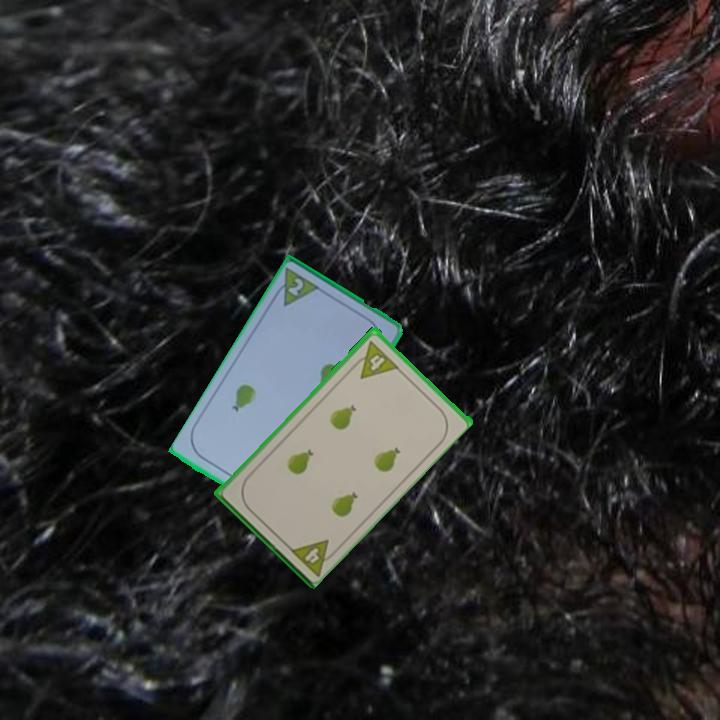2p: (269, 265, 324, 310)
4p: (348, 336, 401, 381), (286, 535, 341, 578)
